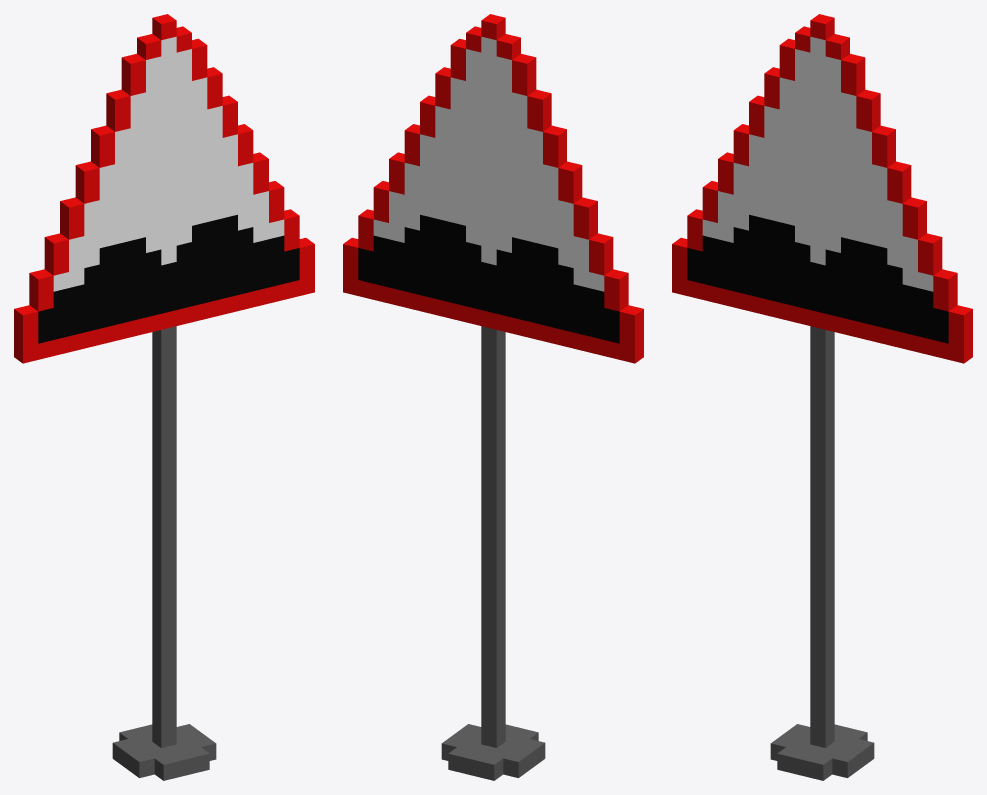
File: BadRoadSign.obj
The picture shows the model from 3 angles, left to right: view 1: azimuth 30°, elevation 25°; view 2: azimuth 150°, elevation 25°; view 3: azimuth 330°, elevation 25°; orthographic projection.
Bounding box in the file's own units: 1.9 × 4.6 × 0.5.
1 material, 1 textured.
